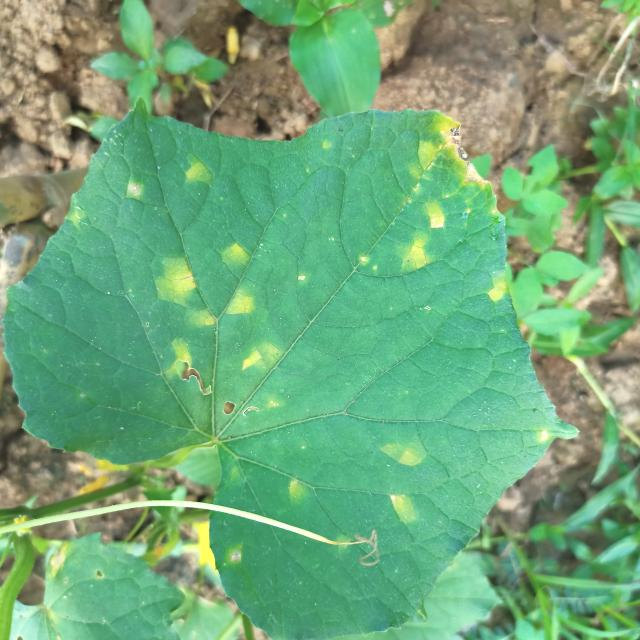disease_cucumber: (150, 222, 296, 417), (402, 115, 477, 284), (375, 428, 437, 531), (282, 462, 318, 510), (177, 156, 218, 193), (488, 268, 518, 312)
